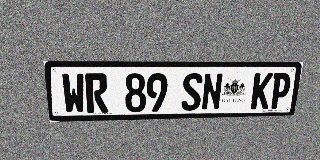8: (125, 73, 146, 112)
9: (147, 73, 168, 112)
K: (250, 73, 273, 109)
N: (201, 73, 223, 110)
P: (269, 73, 292, 109)
R: (85, 73, 108, 113)
S: (181, 73, 203, 111)
W: (61, 73, 86, 114)
